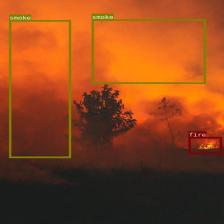fire: (188, 136, 222, 154)
smoke: (8, 19, 71, 158), (92, 19, 206, 84)
